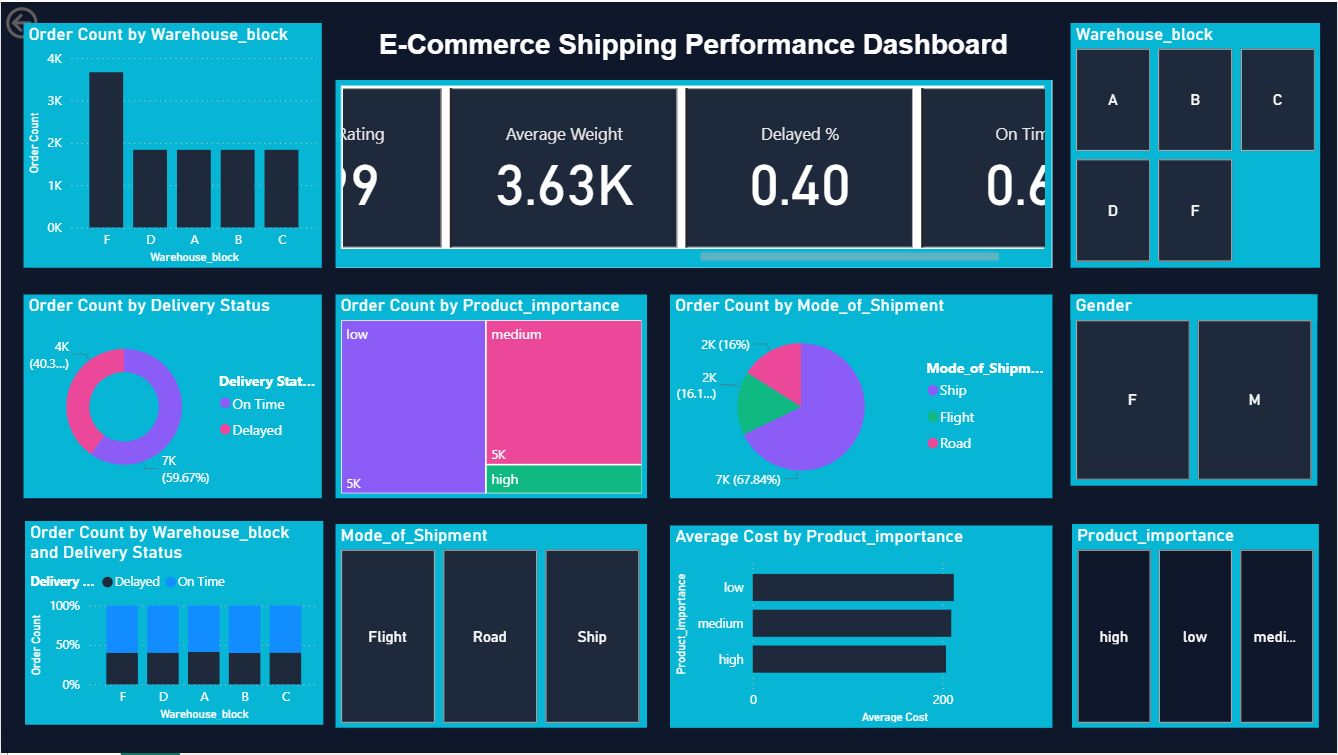

The dashboard page shown, as its layout file describes it:
{"tool":"powerbi","page":{"name":"Page 1","canvas":[1280,720],"ordinal":0},"visuals":[{"type":"cardVisual","fields":{"Data":["Ecommerce Shipping Data.Total Orders","Ecommerce Shipping Data.Average Cost","Ecommerce Shipping Data.Average Discount","Ecommerce Shipping Data.Average Rating","Ecommerce Shipping Data.Average Weight","Ecommerce Shipping Data.Delayed %","Ecommerce Shipping Data.On Time %"]},"box":[321.2,74.2,686.4,180.3],"z":0},{"type":"actionButton","box":[0,0,100,40],"z":1000},{"type":"treemap","fields":{"Group":["Ecommerce Shipping Data.Product_importance"],"Values":["Ecommerce Shipping Data.Order Count"]},"box":[321.2,280.3,298.5,195.5],"z":2000},{"type":"clusteredColumnChart","fields":{"Category":["Ecommerce Shipping Data.Warehouse_block"],"Y":["Ecommerce Shipping Data.Order Count"]},"box":[21.2,19.7,286.2,234.7],"z":3000},{"type":"pieChart","fields":{"Category":["Ecommerce Shipping Data.Mode_of_Shipment"],"Y":["Ecommerce Shipping Data.Order Count"]},"box":[640.9,280.3,366.7,195.5],"z":4000},{"type":"donutChart","fields":{"Category":["Ecommerce Shipping Data.Delivery Status"],"Y":["Ecommerce Shipping Data.Order Count"]},"box":[21.2,280.1,286.2,195.3],"z":5000},{"type":"hundredPercentStackedColumnChart","fields":{"Category":["Ecommerce Shipping Data.Warehouse_block"],"Y":["Ecommerce Shipping Data.Order Count"],"Series":["Ecommerce Shipping Data.Delivery Status"]},"box":[22.7,498.2,286.2,195.3],"z":6000},{"type":"advancedSlicerVisual","fields":{"Values":["Ecommerce Shipping Data.Warehouse_block"]},"box":[1025.8,19.7,239.4,234.8],"z":7000},{"type":"advancedSlicerVisual","fields":{"Values":["Ecommerce Shipping Data.Mode_of_Shipment"]},"box":[321.2,500,298.5,195.5],"z":8000},{"type":"advancedSlicerVisual","fields":{"Values":["Ecommerce Shipping Data.Gender"]},"box":[1025.8,280.3,236.4,183.3],"z":9000},{"type":"advancedSlicerVisual","fields":{"Values":["Ecommerce Shipping Data.Product_importance"]},"box":[1027.3,500,236.4,195.5],"z":10000},{"type":"clusteredBarChart","fields":{"Category":["Ecommerce Shipping Data.Product_importance"],"Y":["Ecommerce Shipping Data.Average Cost"]},"box":[640.9,501.5,366.7,193.9],"z":11000},{"type":"textbox","box":[321.2,19.7,686.4,43.9],"z":12000}]}

Visuals, with their boxes in screenshot pixels (x1, y1, x2, y2), scaled from the page's 1280x720 canvas onto the 1338x755 screenshot:
cardVisual - Ecommerce Shipping Data.Total Orders x Ecommerce Shipping Data.Average Cost: locate(336, 78, 1053, 267)
actionButton: locate(0, 0, 105, 42)
treemap - Ecommerce Shipping Data.Product_importance x Ecommerce Shipping Data.Order Count: locate(336, 294, 648, 499)
clusteredColumnChart - Ecommerce Shipping Data.Warehouse_block x Ecommerce Shipping Data.Order Count: locate(22, 21, 321, 267)
pieChart - Ecommerce Shipping Data.Mode_of_Shipment x Ecommerce Shipping Data.Order Count: locate(670, 294, 1053, 499)
donutChart - Ecommerce Shipping Data.Delivery Status x Ecommerce Shipping Data.Order Count: locate(22, 294, 321, 499)
hundredPercentStackedColumnChart - Ecommerce Shipping Data.Warehouse_block x Ecommerce Shipping Data.Order Count: locate(24, 522, 323, 727)
advancedSlicerVisual - Ecommerce Shipping Data.Warehouse_block: locate(1072, 21, 1323, 267)
advancedSlicerVisual - Ecommerce Shipping Data.Mode_of_Shipment: locate(336, 524, 648, 729)
advancedSlicerVisual - Ecommerce Shipping Data.Gender: locate(1072, 294, 1319, 486)
advancedSlicerVisual - Ecommerce Shipping Data.Product_importance: locate(1074, 524, 1321, 729)
clusteredBarChart - Ecommerce Shipping Data.Product_importance x Ecommerce Shipping Data.Average Cost: locate(670, 526, 1053, 729)
textbox: locate(336, 21, 1053, 67)
